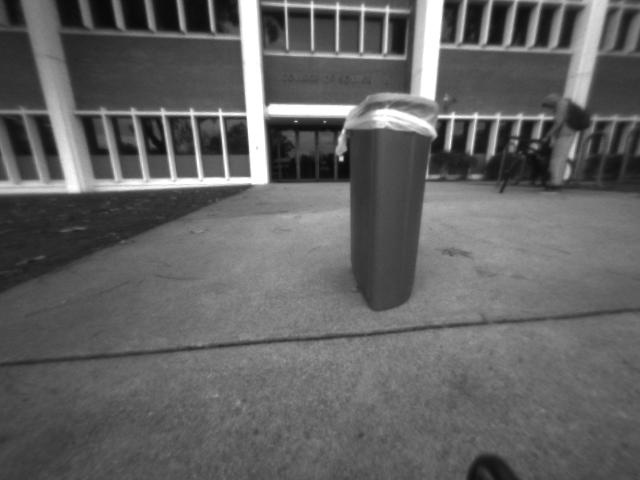trashcan: (330, 83, 452, 323)
